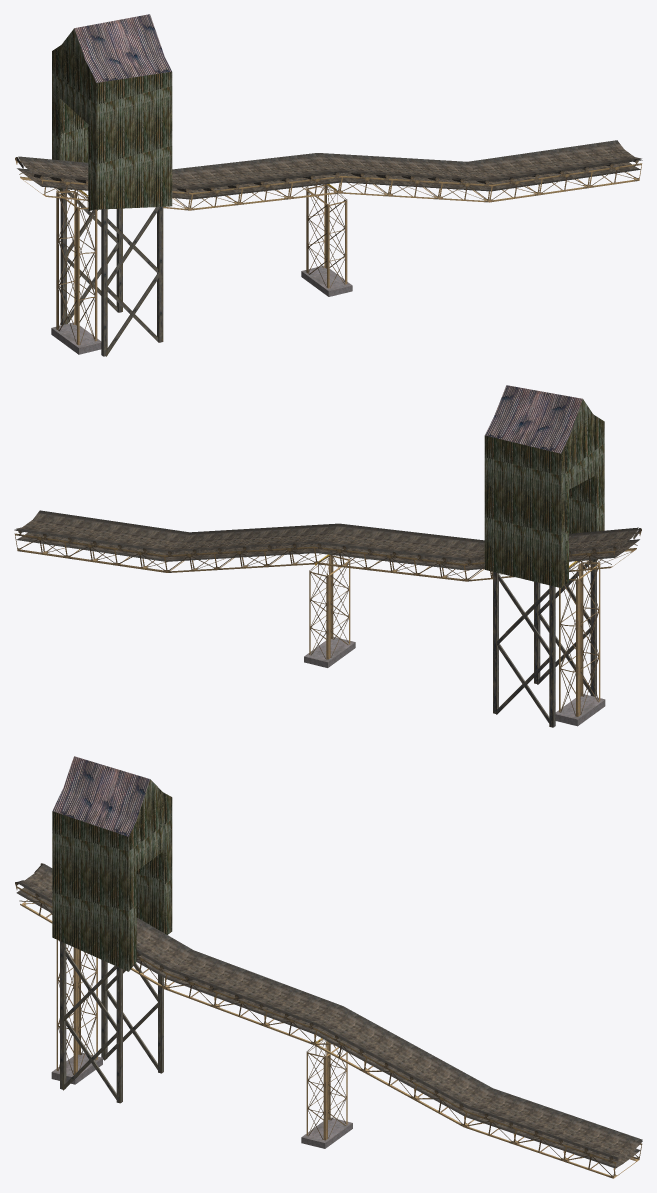
The model's file is des_quarrybelt18.obj.
3 renders of one model, top to bottom at view 1: azimuth 30°, elevation 25°; view 2: azimuth 150°, elevation 25°; view 3: azimuth 330°, elevation 25°, orthographic.
Visible parts, largest first — view 1: des_quarrybelt18; view 2: des_quarrybelt18; view 3: des_quarrybelt18.
Boxes of the visible parts, x1,y1,x2,y2 form: des_quarrybelt18: [15, 14, 642, 356]; des_quarrybelt18: [14, 385, 641, 727]; des_quarrybelt18: [15, 756, 642, 1178].
Bounding box in the file's own units: 31.73 × 15.97 × 4.03.
8 materials, 8 textured.
